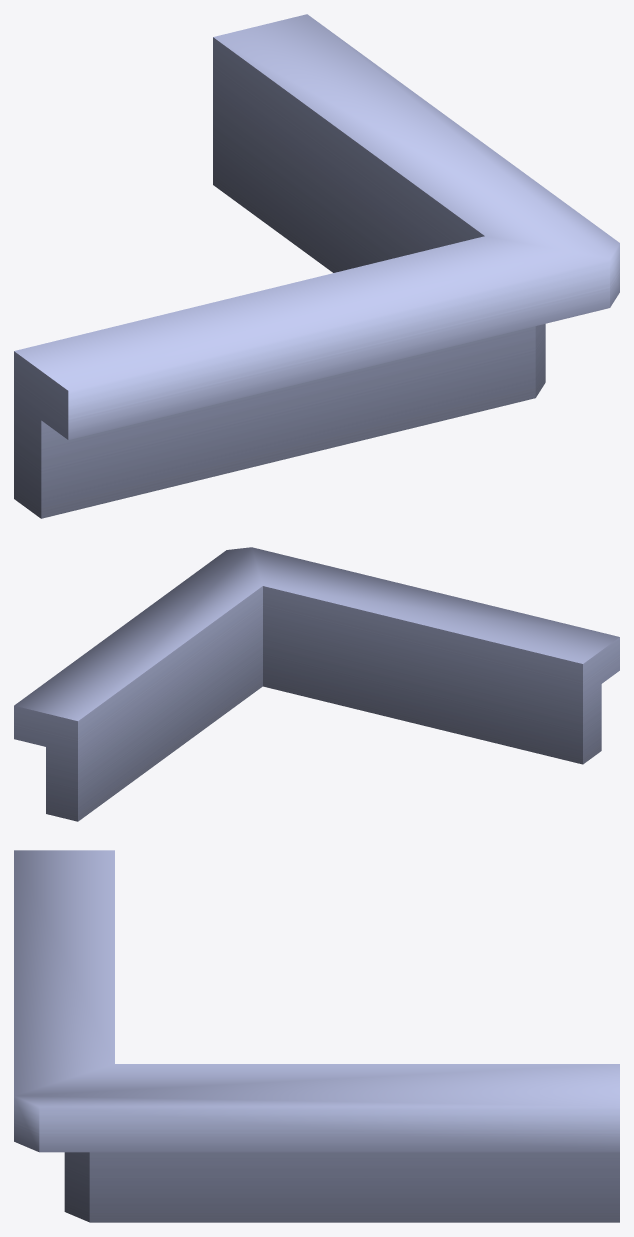
Rendered from building_border_corner_small.glb.
The picture shows the model from 3 angles, top to bottom: view 1: azimuth 30°, elevation 25°; view 2: azimuth 150°, elevation 25°; view 3: azimuth 270°, elevation 25°; orthographic projection. The views are drawn at different scales.
Parts seen in each view (by area): view 1: border-corner-small; view 2: border-corner-small; view 3: border-corner-small.
Boxes of the visible parts, <box> form: border-corner-small: <box>14,14,619,518</box>; border-corner-small: <box>14,547,619,821</box>; border-corner-small: <box>14,850,619,1222</box>.
Bounding box in the file's own units: 1.2 × 0.3 × 1.2.
Materials: 1 (1 with a texture image).
